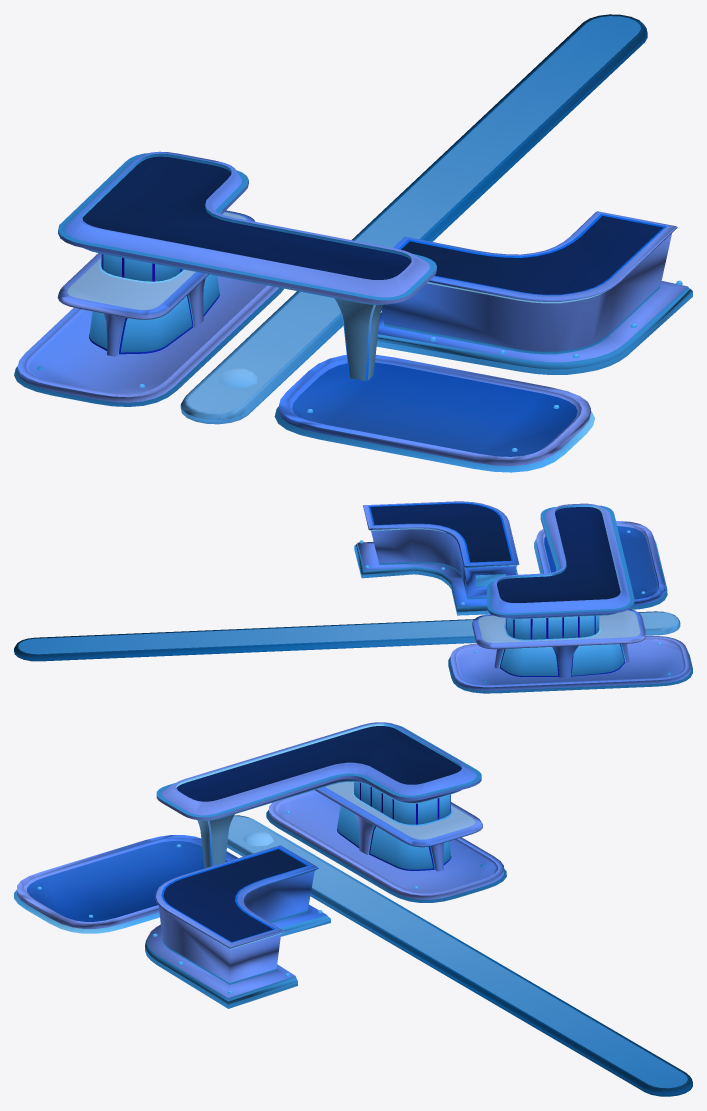
File: About_Us.glb
The picture shows the model from 3 angles, top to bottom: view 1: azimuth 30°, elevation 25°; view 2: azimuth 150°, elevation 25°; view 3: azimuth 270°, elevation 25°; orthographic projection. The views are drawn at different scales.
Visible parts, largest first — view 1: Main Entrance; view 2: Main Entrance; view 3: Main Entrance.
Part boxes in pixels (x1,y1,x2,y2): Main Entrance: (14,14,692,472); Main Entrance: (14,501,692,693); Main Entrance: (14,722,692,1096).
Bounding box in the file's own units: 4.19 × 0.6029 × 3.87.
Materials: 2 (2 with a texture image).
